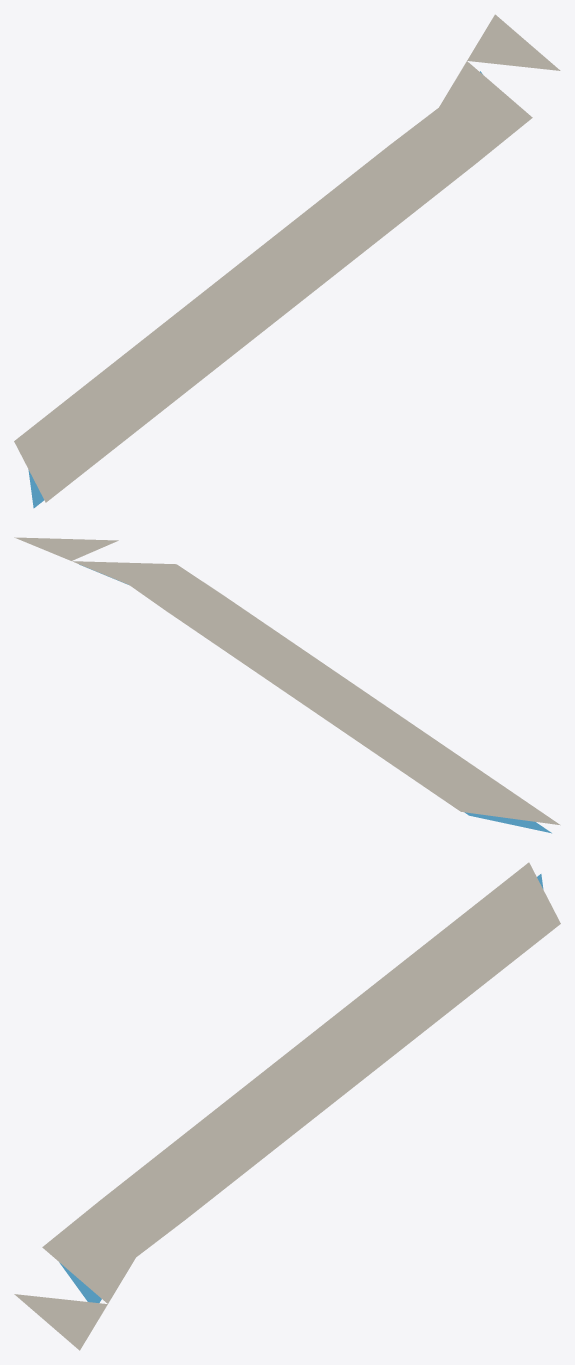
The picture shows the model from 3 angles, top to bottom: view 1: azimuth 90°, elevation 25°; view 2: azimuth 150°, elevation 25°; view 3: azimuth 270°, elevation 25°; orthographic projection. The views are drawn at different scales.
Parts seen in each view (by area): view 1: estructura_terreno; view 2: estructura_terreno, estructura_agua; view 3: estructura_terreno.
Part boxes in pixels (x1,y1,x2,y2): estructura_terreno: (14,14,560,502); estructura_terreno: (14,537,560,825); estructura_agua: (79,564,551,833); estructura_terreno: (14,862,560,1350).
Size of the model in its own units: 50.06 by 0.41 by 23.68.
